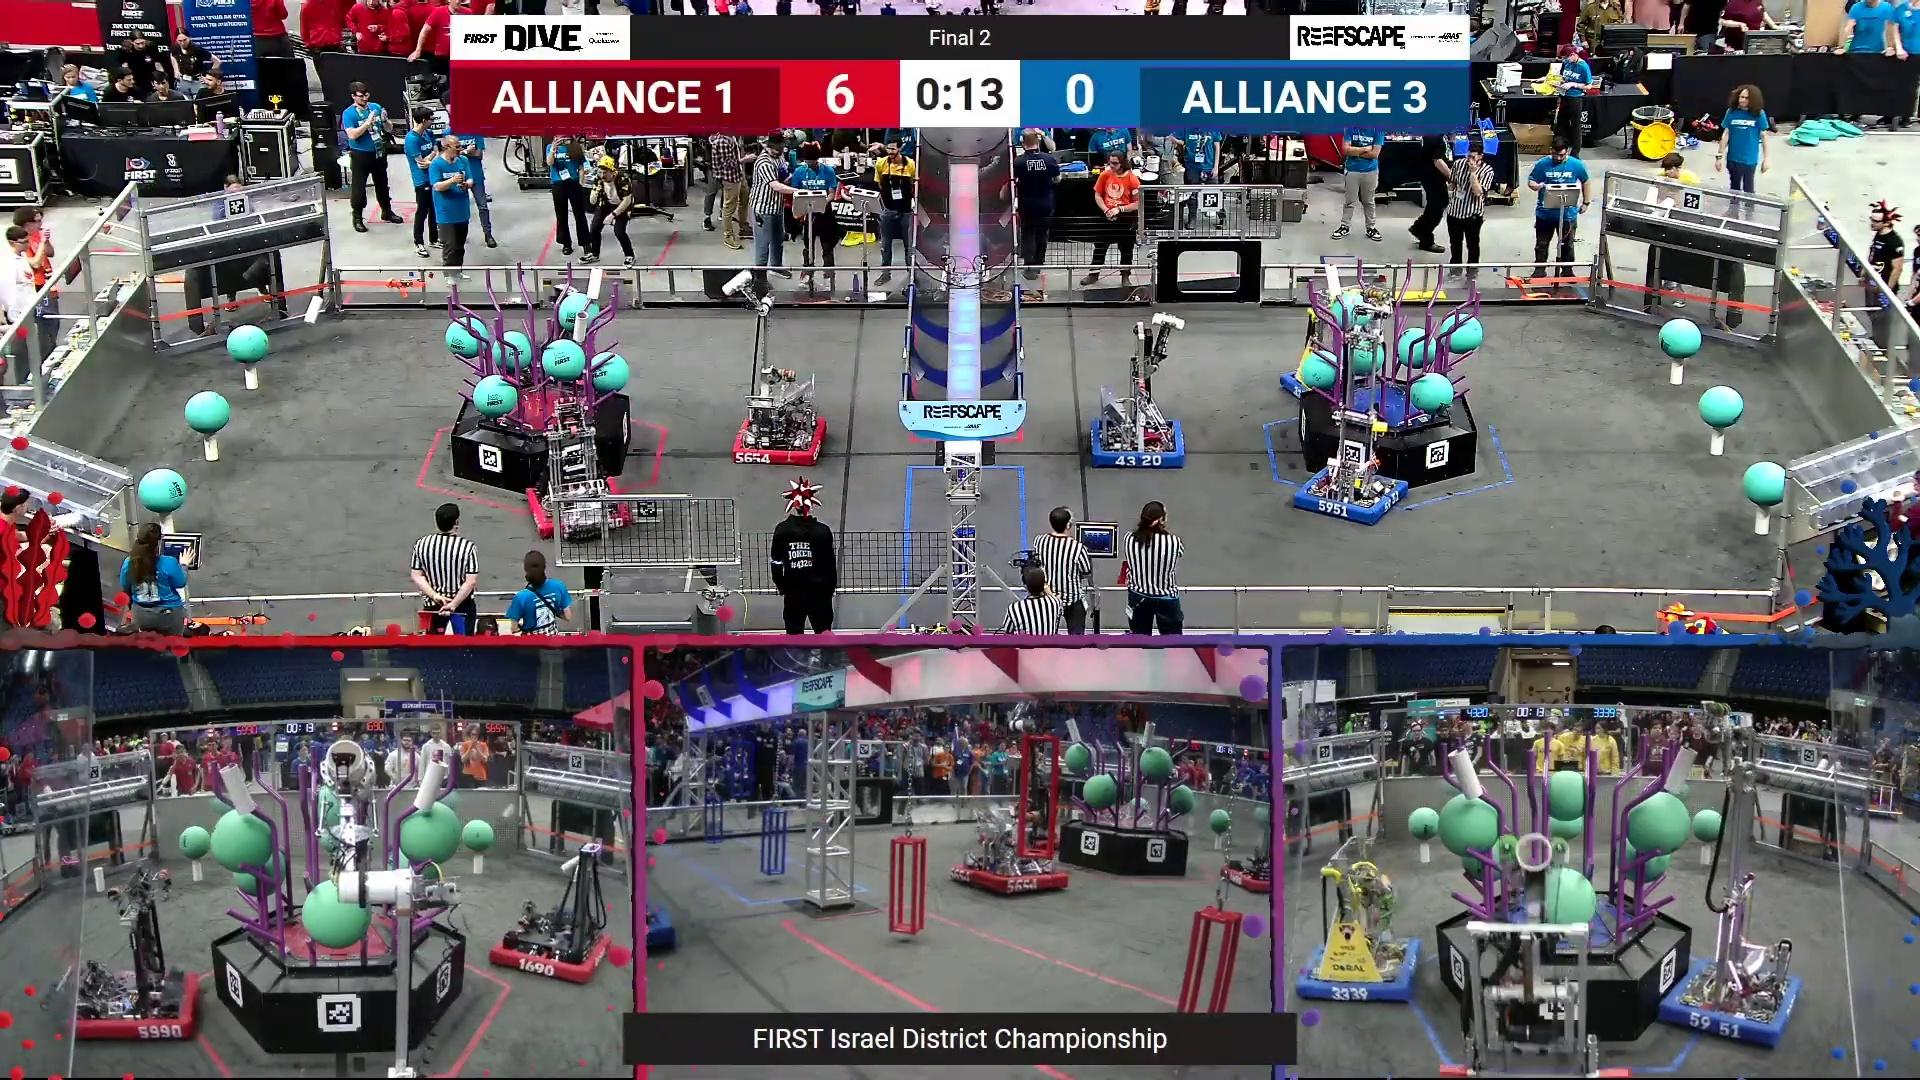robot: (1663, 699, 1799, 1046), (1292, 301, 1410, 526), (70, 865, 200, 1040), (1298, 828, 1422, 1005), (717, 273, 828, 465), (952, 754, 1085, 895), (489, 843, 611, 982), (1278, 266, 1399, 406), (1089, 313, 1187, 469), (525, 394, 632, 535), (1221, 840, 1271, 891)
